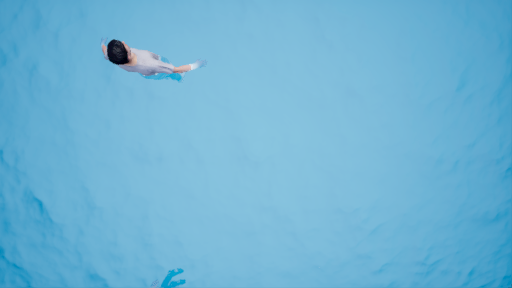person: (94, 31, 200, 96)
